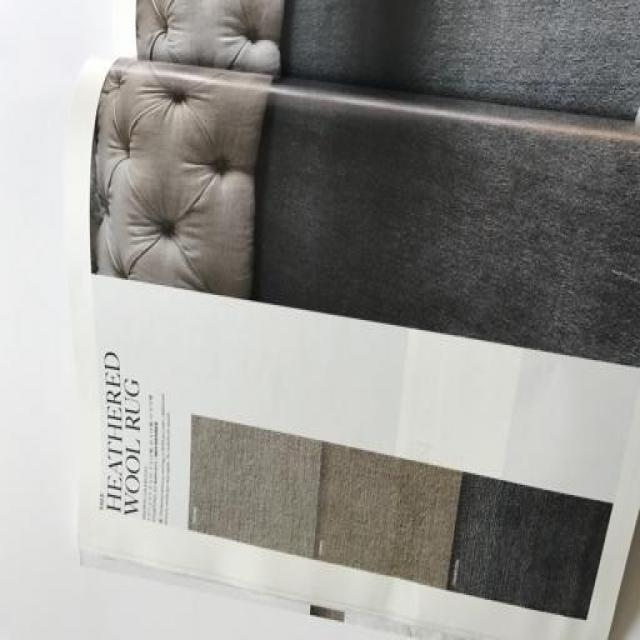paper: (68, 1, 640, 640)
